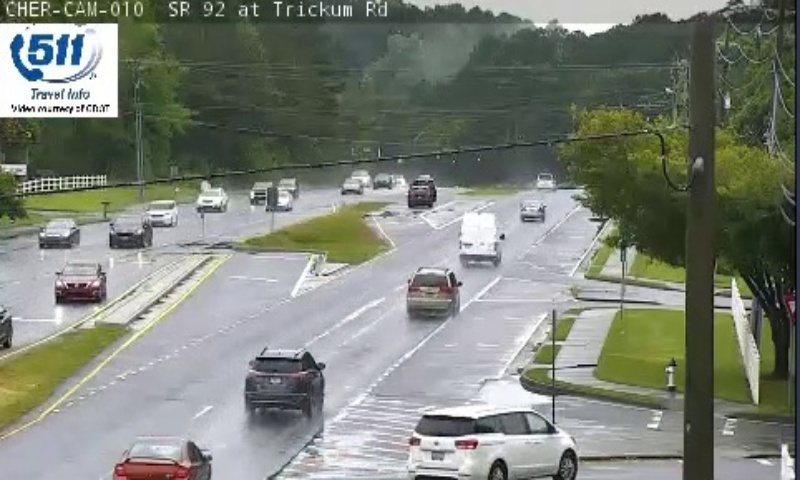car: (245, 348, 323, 407), (112, 436, 213, 480), (406, 268, 458, 313), (519, 198, 546, 221)
van: (459, 211, 497, 261)
